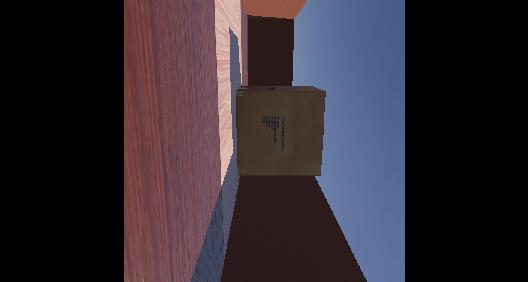CardboardBox: (222, 72, 331, 190)
